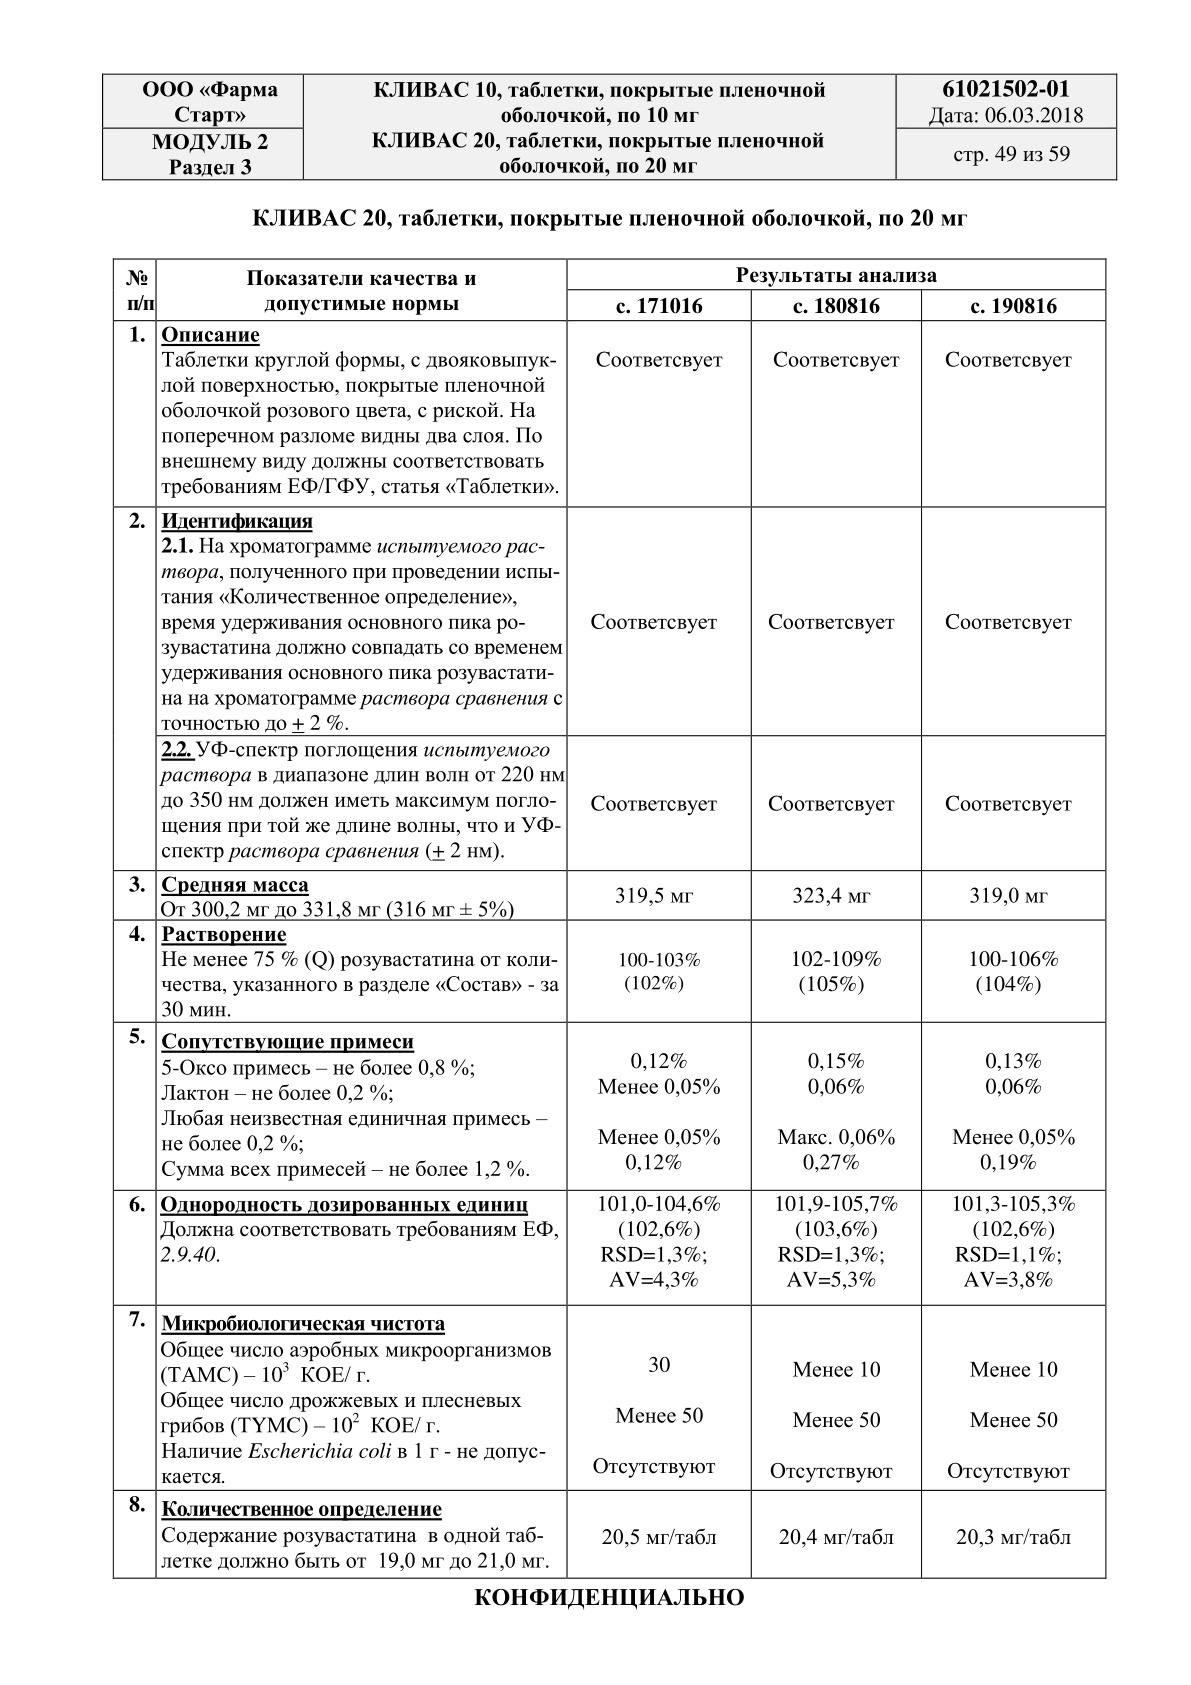merged_cells: (112, 258, 1107, 1581), (101, 73, 1118, 180)
